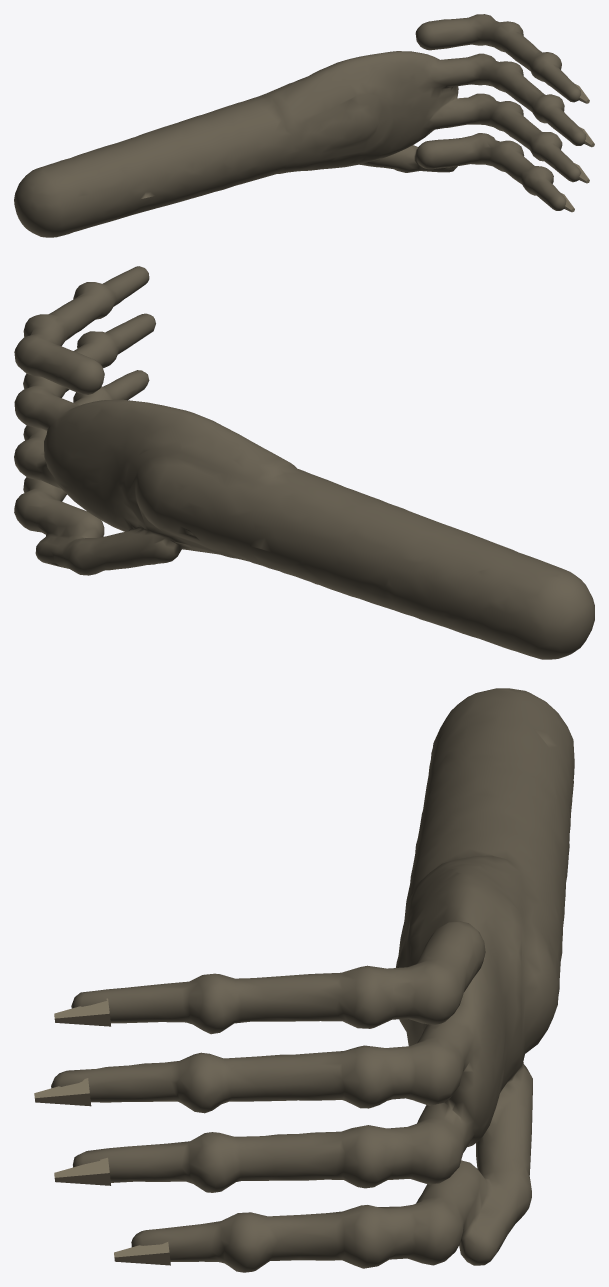
Rendered from wa_hand@1.glb.
The picture shows the model from 3 angles, top to bottom: view 1: azimuth 30°, elevation 25°; view 2: azimuth 150°, elevation 25°; view 3: azimuth 270°, elevation 25°; orthographic projection. The views are drawn at different scales.
Visible parts, largest first — view 1: hand, teil0; view 2: hand; view 3: hand, teil0.
Boxes of the visible parts, x1,y1,x2,y2 form: hand: (14, 14, 586, 237); teil0: (561, 83, 594, 212); hand: (14, 266, 594, 659); hand: (51, 688, 574, 1272); teil0: (34, 998, 170, 1265).
Size of the model in its own units: 0.3945 by 0.1306 by 0.1969.
